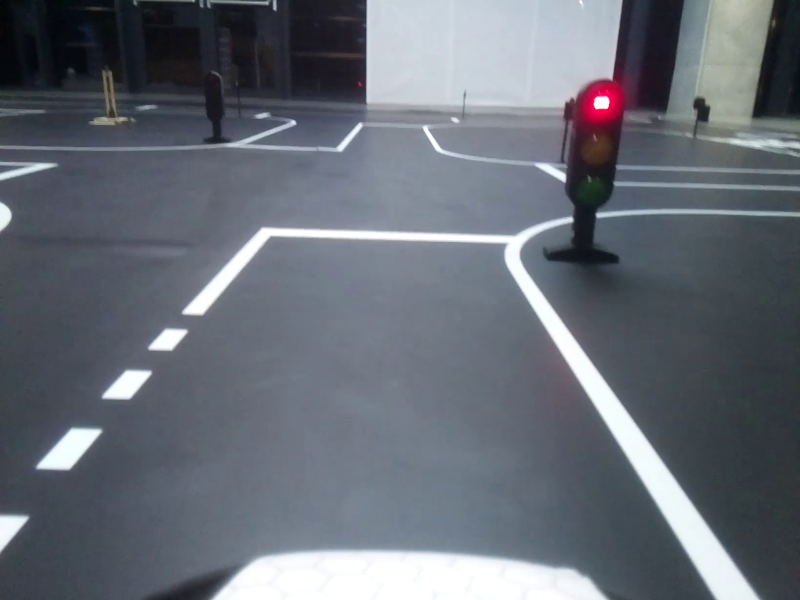traffic_red: (569, 81, 623, 210)
